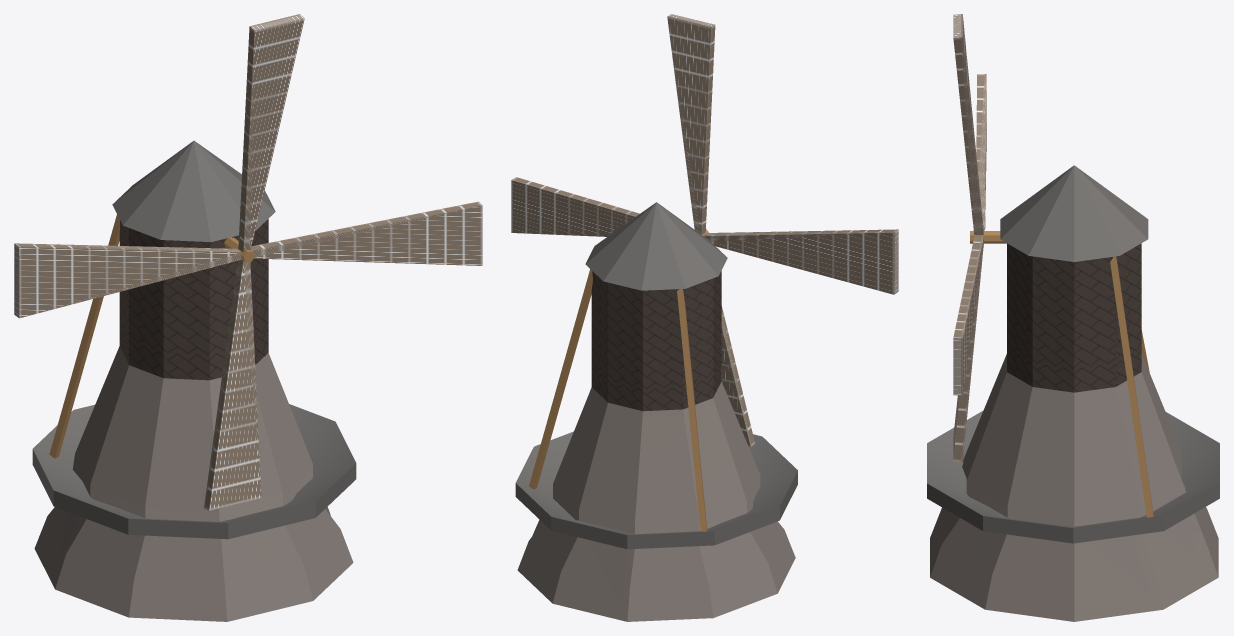
The model's file is Windmill.fbx.
3 renders of one model, left to right at view 1: azimuth 30°, elevation 25°; view 2: azimuth 150°, elevation 25°; view 3: azimuth 270°, elevation 25°, orthographic. The views are drawn at different scales.
Parts seen in each view (by area): view 1: polySurface40; view 2: polySurface40; view 3: polySurface40.
Boxes of the visible parts, <box> form: polySurface40: <box>14,14,482,621</box>; polySurface40: <box>511,14,898,621</box>; polySurface40: <box>927,14,1219,621</box>.
Size of the model in its own units: 32.56 by 39.48 by 19.33.
Materials: 5 (2 with a texture image).
